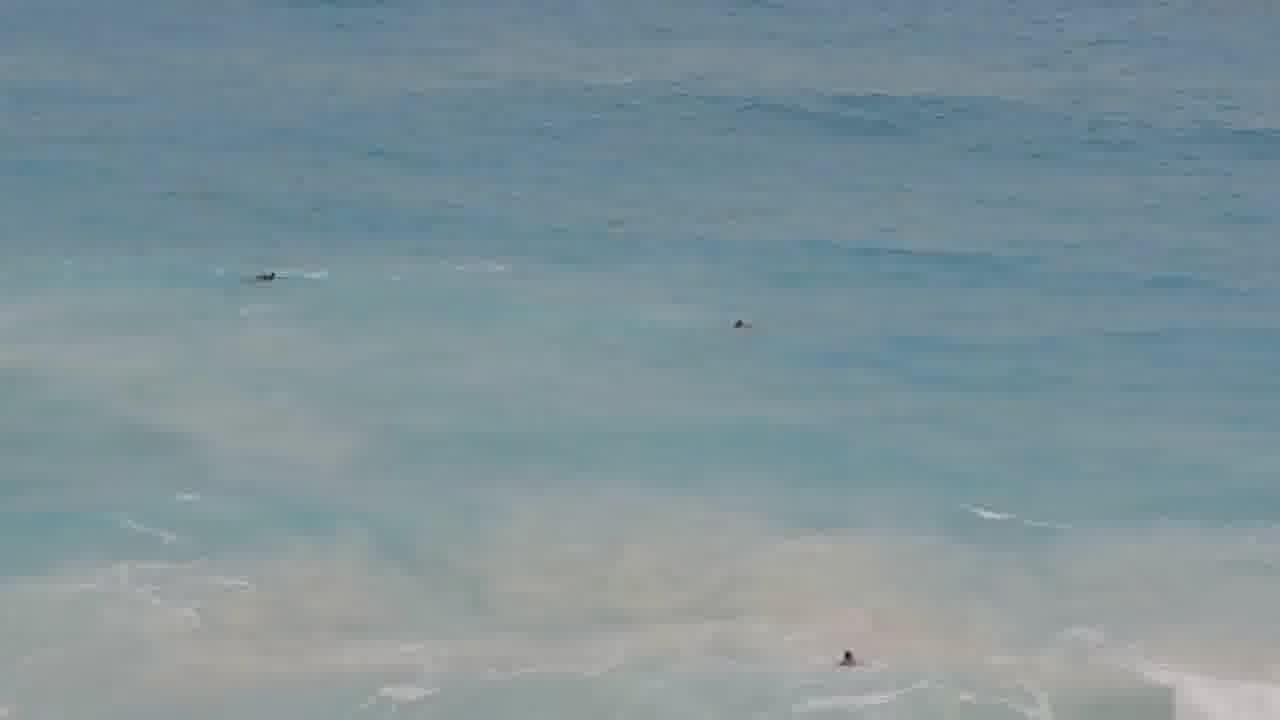swimmer: (227, 252, 317, 304), (712, 295, 767, 349), (822, 640, 877, 689)
